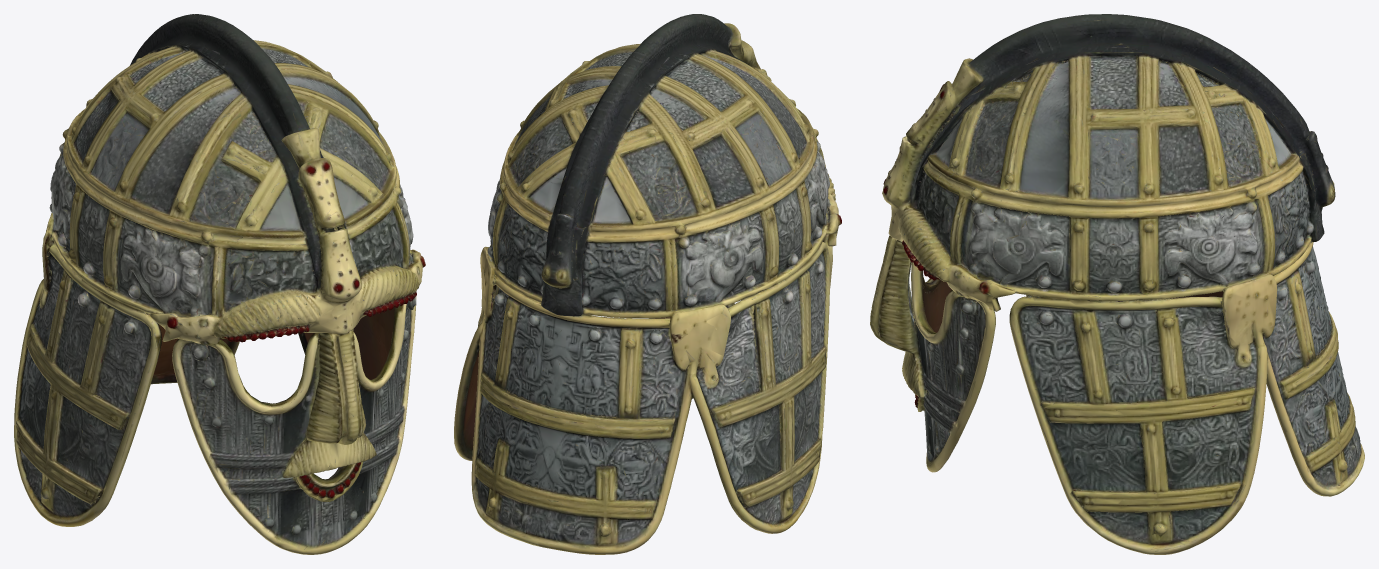
File: SHHelmet.glb
The picture shows the model from 3 angles, left to right: view 1: azimuth 30°, elevation 25°; view 2: azimuth 150°, elevation 25°; view 3: azimuth 270°, elevation 25°; orthographic projection. The views are drawn at different scales.
Visible parts, largest first — view 1: Mesh1.0; view 2: Mesh1.0; view 3: Mesh1.0.
Boxes of the visible parts, x1,y1,x2,y2 form: Mesh1.0: [14, 14, 425, 554]; Mesh1.0: [454, 14, 841, 554]; Mesh1.0: [870, 14, 1364, 554].
Bounding box in the file's own units: 1.4 × 1.91 × 1.85.
1 material, 1 textured.
